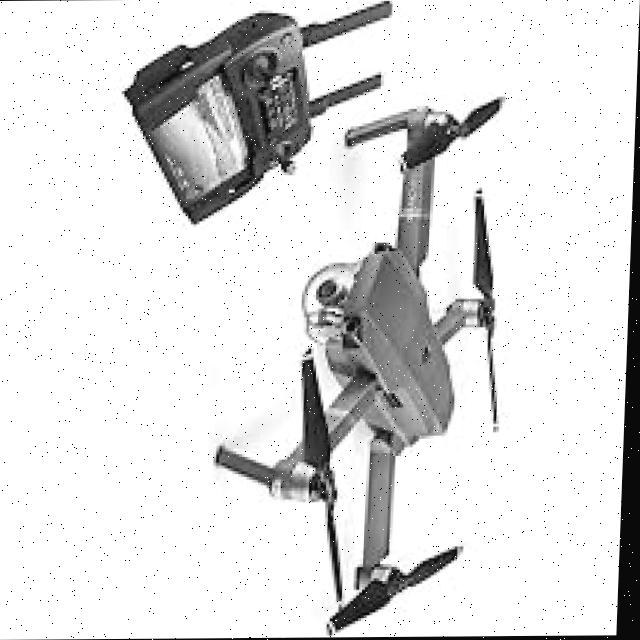drone: (195, 85, 535, 639)
